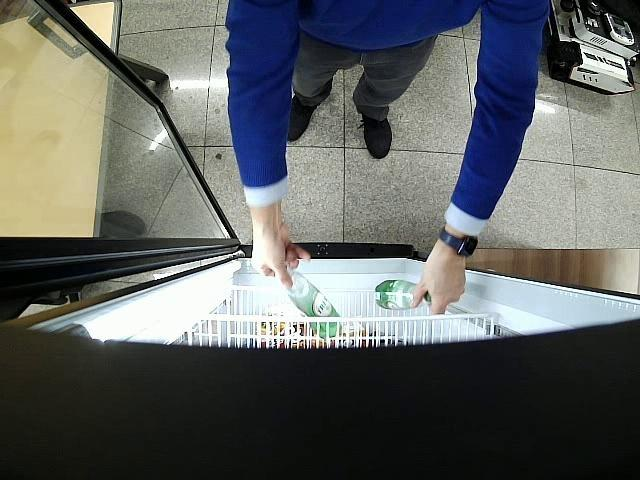18_trevi: (286, 266, 342, 338), (369, 279, 432, 310)
